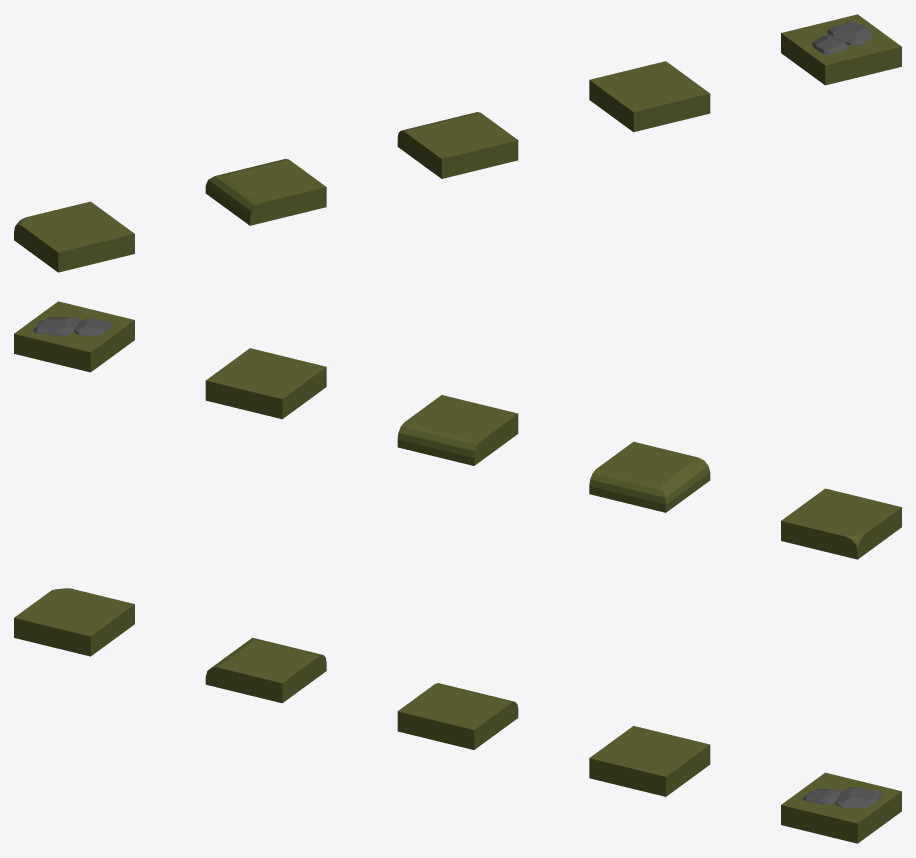
The model's file is tilemap_plate_2x2.gltf.
3 views of the same model, one above another, from view 1: azimuth 30°, elevation 25°; view 2: azimuth 150°, elevation 25°; view 3: azimuth 330°, elevation 25° (orthographic).
Parts seen in each view (by area): view 1: Plate_Full-col, Plate_Full_Var1-col, Plate_Corner-col, Plate_One-col, Plate_Two-col; view 2: Plate_Full-col, Plate_Corner-col, Plate_Full_Var1-col, Plate_One-col, Plate_Two-col; view 3: Plate_Full-col, Plate_Full_Var1-col, Plate_Corner-col, Plate_One-col, Plate_Two-col.
Boxes of the visible parts, x1,y1,x2,y2 form: Plate_Full-col: [589, 61, 710, 132]; Plate_Full_Var1-col: [781, 14, 901, 85]; Plate_Corner-col: [14, 201, 134, 272]; Plate_One-col: [397, 112, 518, 178]; Plate_Two-col: [205, 158, 326, 225]; Plate_Full-col: [205, 348, 326, 419]; Plate_Corner-col: [781, 488, 901, 559]; Plate_Full_Var1-col: [14, 301, 134, 372]; Plate_One-col: [397, 395, 518, 465]; Plate_Two-col: [589, 441, 710, 512]; Plate_Full-col: [589, 726, 710, 796]; Plate_Full_Var1-col: [781, 772, 901, 843]; Plate_Corner-col: [14, 588, 134, 656]; Plate_One-col: [397, 683, 518, 749]; Plate_Two-col: [205, 637, 326, 703].
Size of the model in its own units: 44 by 1.23 by 4.
